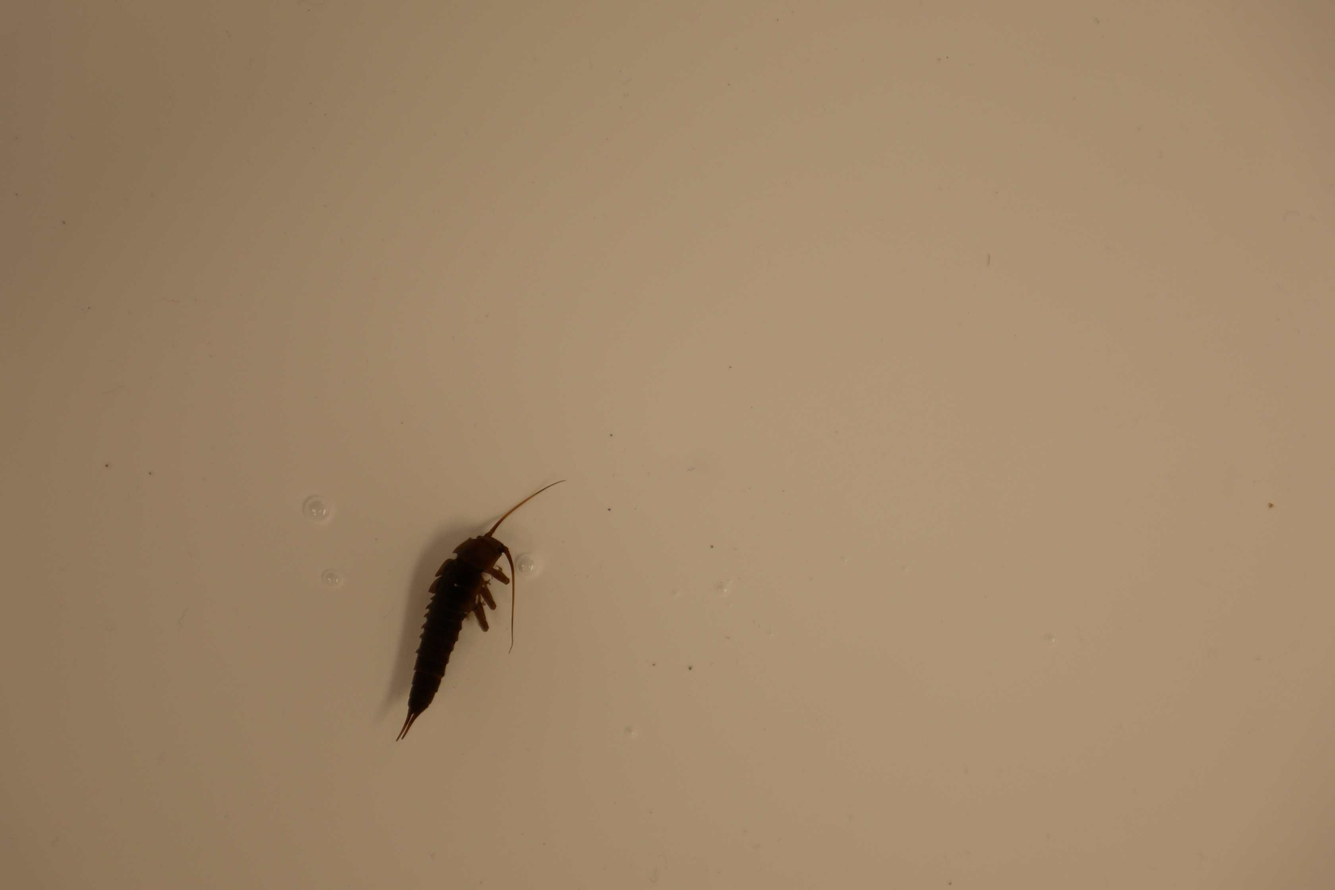Stonefly: (391, 472, 568, 745)
